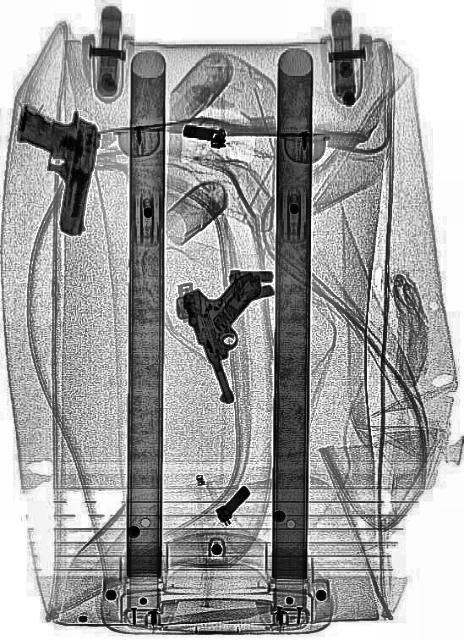Gun: (179, 260, 287, 410), (3, 96, 102, 237)
